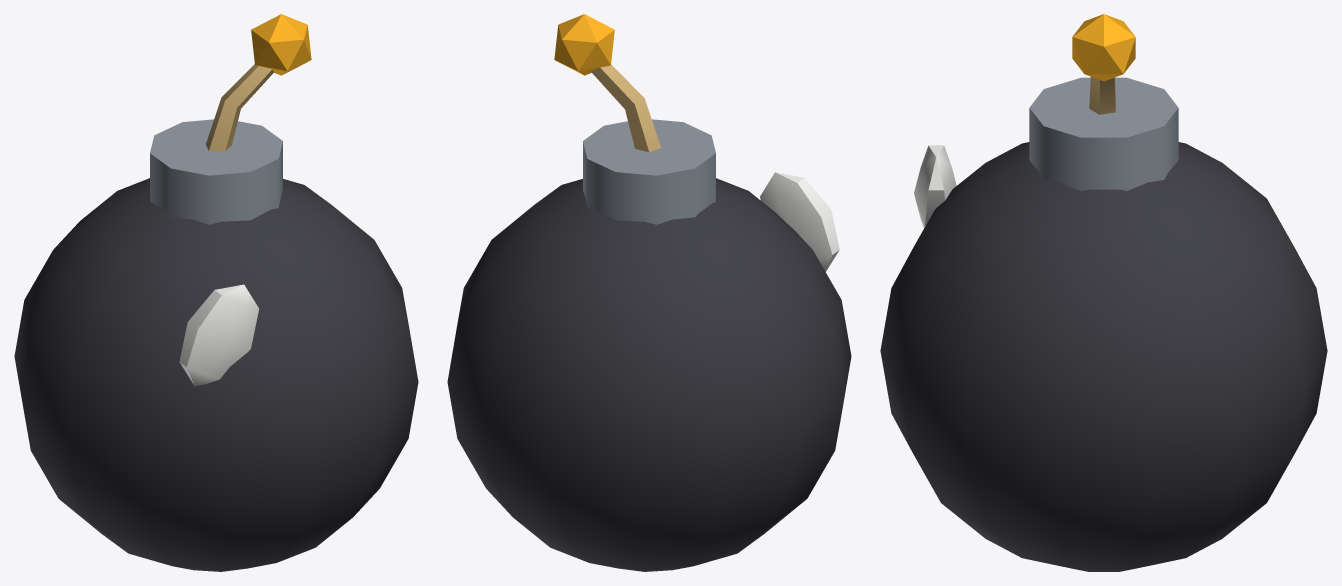
Rendered from Bomb.fbx.
3 renders of one model, left to right at view 1: azimuth 30°, elevation 25°; view 2: azimuth 150°, elevation 25°; view 3: azimuth 270°, elevation 25°, orthographic. The views are drawn at different scales.
Parts seen in each view (by area): view 1: Bomb; view 2: Bomb; view 3: Bomb.
Part boxes in pixels (x1,y1,x2,y2): Bomb: (14,14,418,571); Bomb: (447,14,851,571); Bomb: (880,14,1327,571).
Bounding box in the file's own units: 1.17 × 1.7 × 1.2.
1 material, 1 textured.
